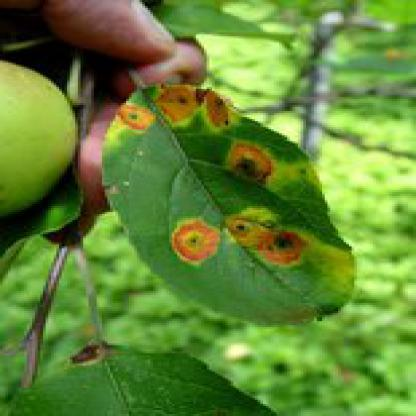Apple rust leaf: (94, 81, 368, 337)
